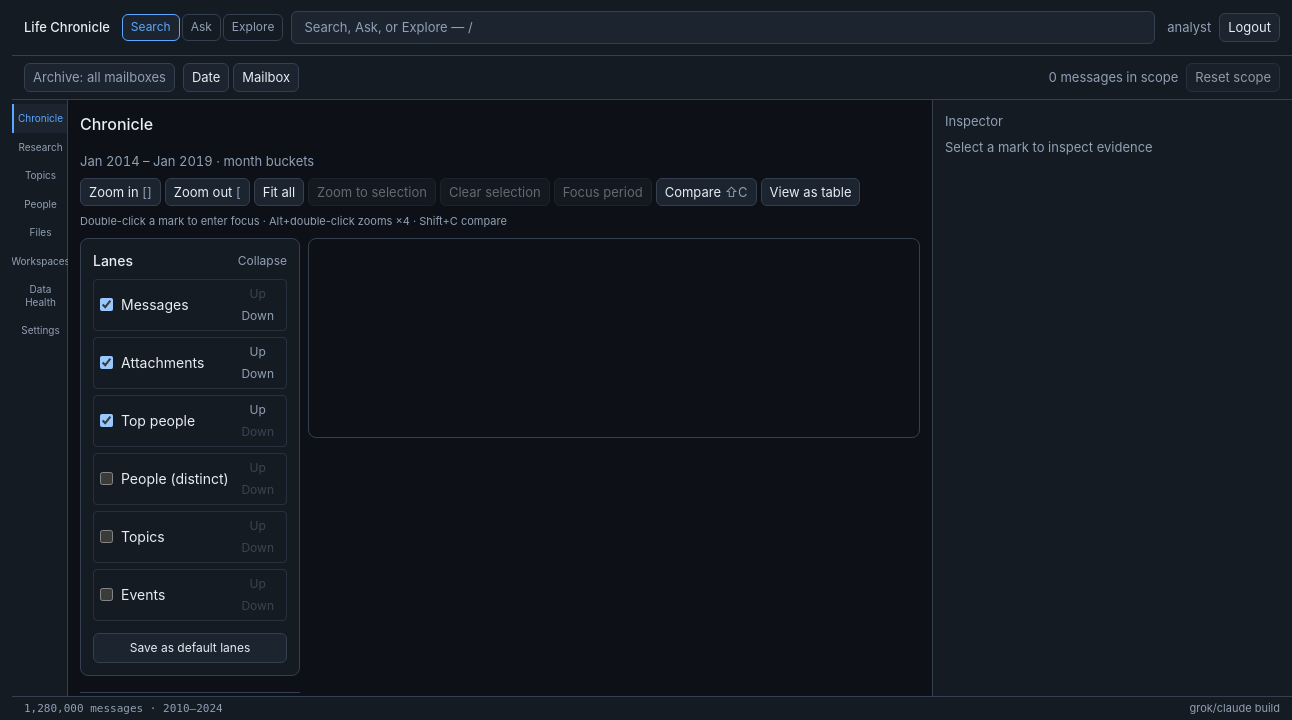
Scenario: ChroniclePage working-set wiring › View as table toggles store view
The width and height of the screenshot is (1292, 720).
Check: the text "Jan 2014 – Jan 2019 · month buckets" is shown, box [80,152,314,170]
Click the button "View as table" at (811, 192), box [761,178,860,206]
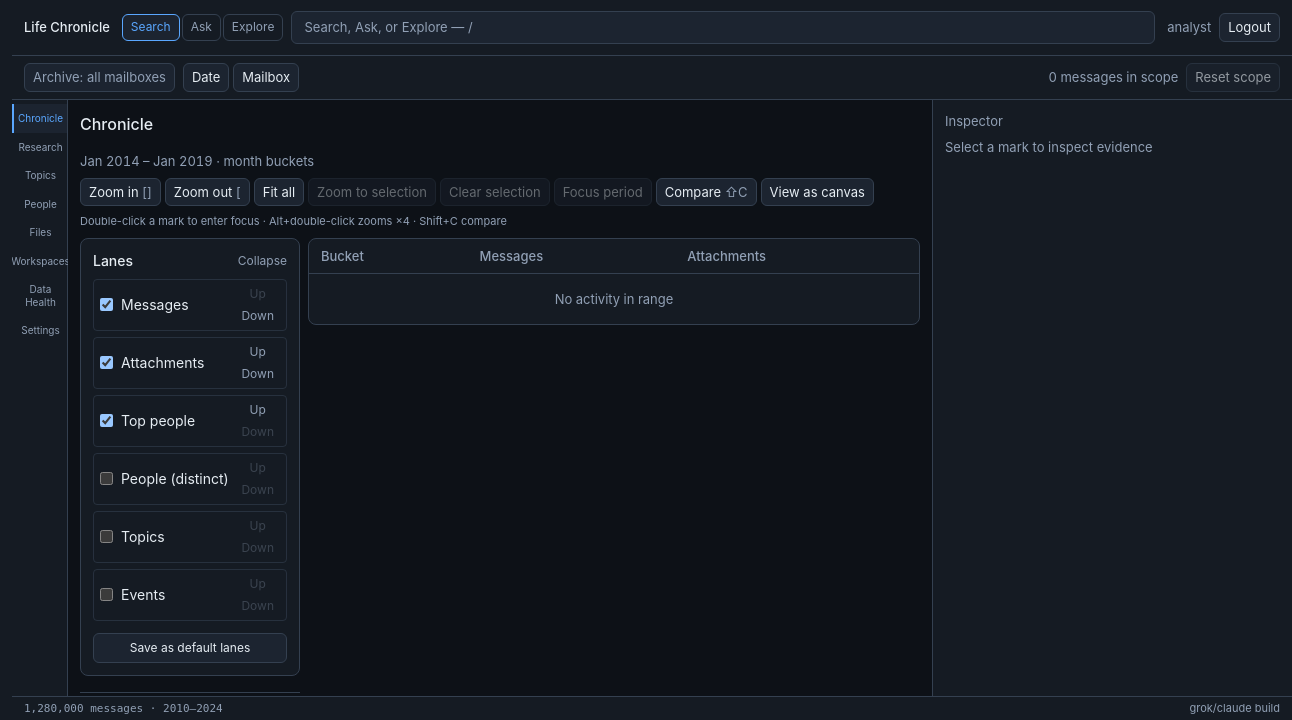
Check: the table with test id "timeline-table" is shown, box [309,239,919,324]
